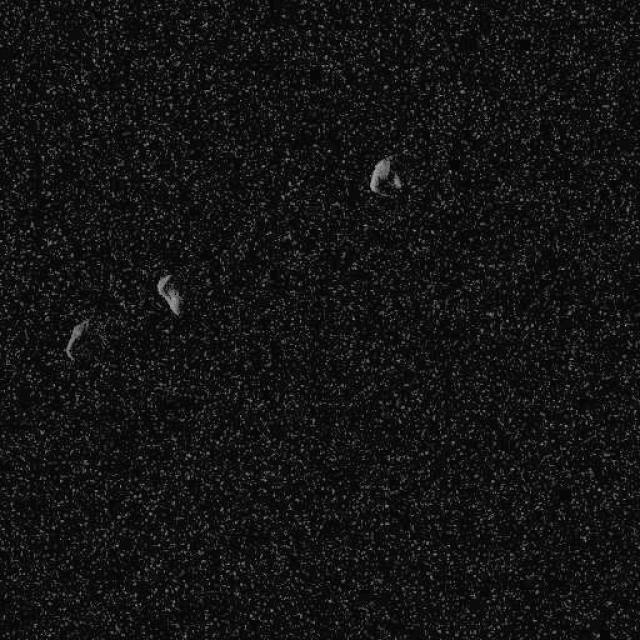D2: (368, 154, 402, 196), (155, 272, 184, 318), (64, 318, 90, 362)
